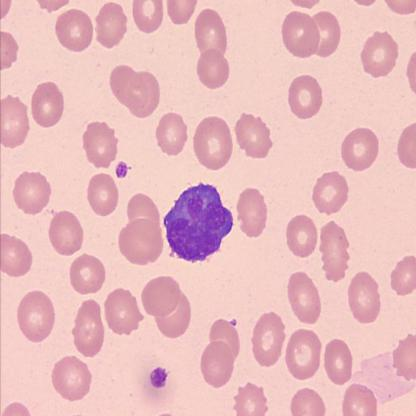Atypical lymphocyte: (164, 182, 235, 262)
